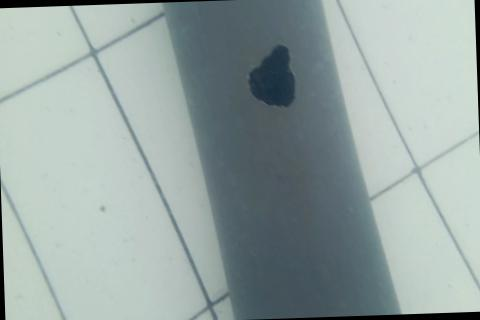kebocoran: (247, 41, 298, 113)
